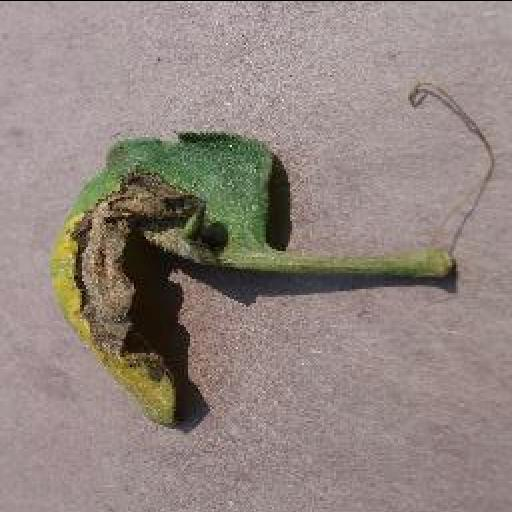disease_tomato: (48, 122, 286, 426)
